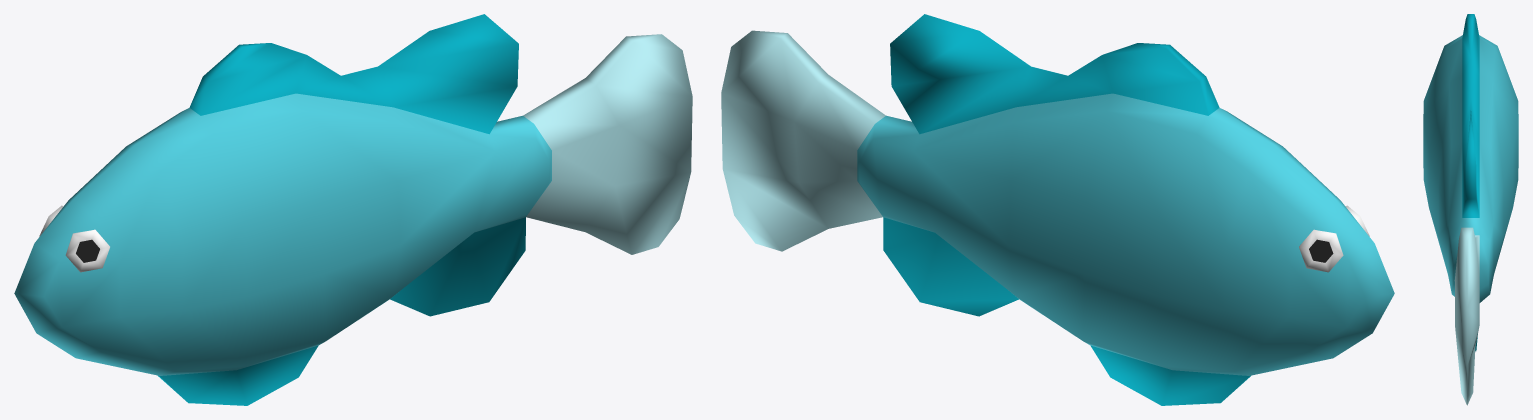
File: Fish_012.glb
3 renders of one model, left to right at view 1: azimuth 30°, elevation 25°; view 2: azimuth 150°, elevation 25°; view 3: azimuth 270°, elevation 25°, orthographic. The views are drawn at different scales.
Parts seen in each view (by area): view 1: Fish_012; view 2: Fish_012; view 3: Fish_012.
Boxes of the visible parts, x1,y1,x2,y2 form: Fish_012: (14,14,692,405); Fish_012: (721,14,1394,405); Fish_012: (1423,14,1518,405).
Bounding box in the file's own units: 0.5517 × 0.2816 × 0.0862.
1 material, 1 textured.
